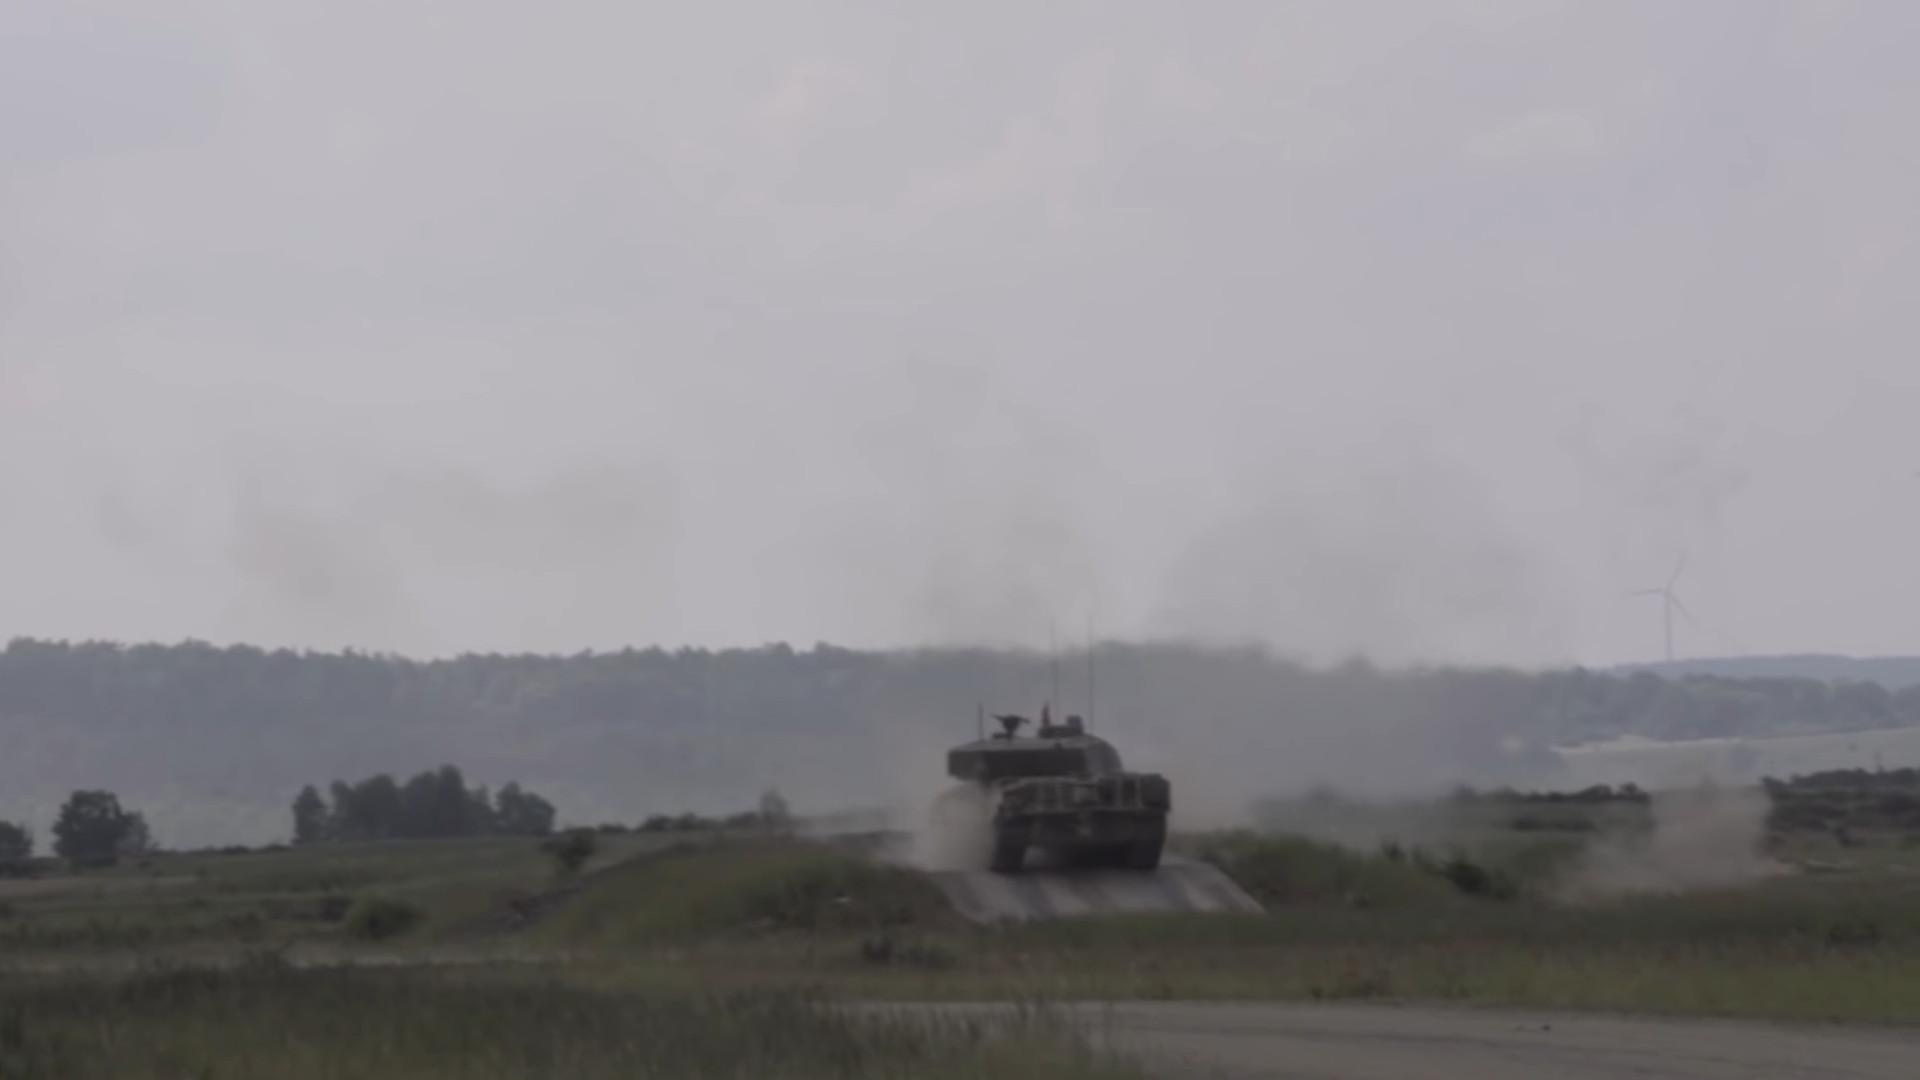tank: (931, 712, 1170, 870)
